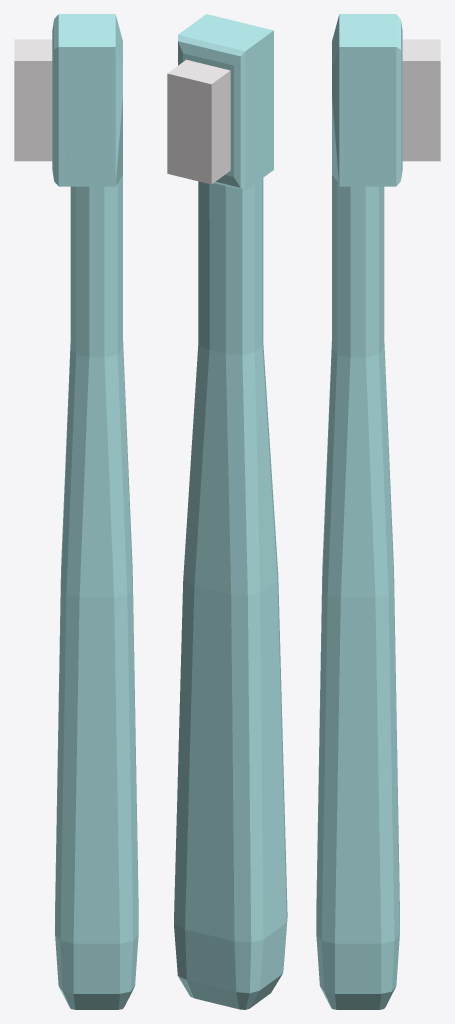
Rendered from toothbrush.fbx.
The picture shows the model from 3 angles, left to right: view 1: azimuth 90°, elevation 25°; view 2: azimuth 150°, elevation 25°; view 3: azimuth 270°, elevation 25°; orthographic projection.
Parts seen in each view (by area): view 1: toothbrush; view 2: toothbrush; view 3: toothbrush.
Part boxes in pixels (x1,y1,x2,y2): toothbrush: (14,14,138,1009); toothbrush: (167,14,287,1009); toothbrush: (316,14,440,1009).
Bounding box in the file's own units: 9.44 × 97.81 × 11.43.
